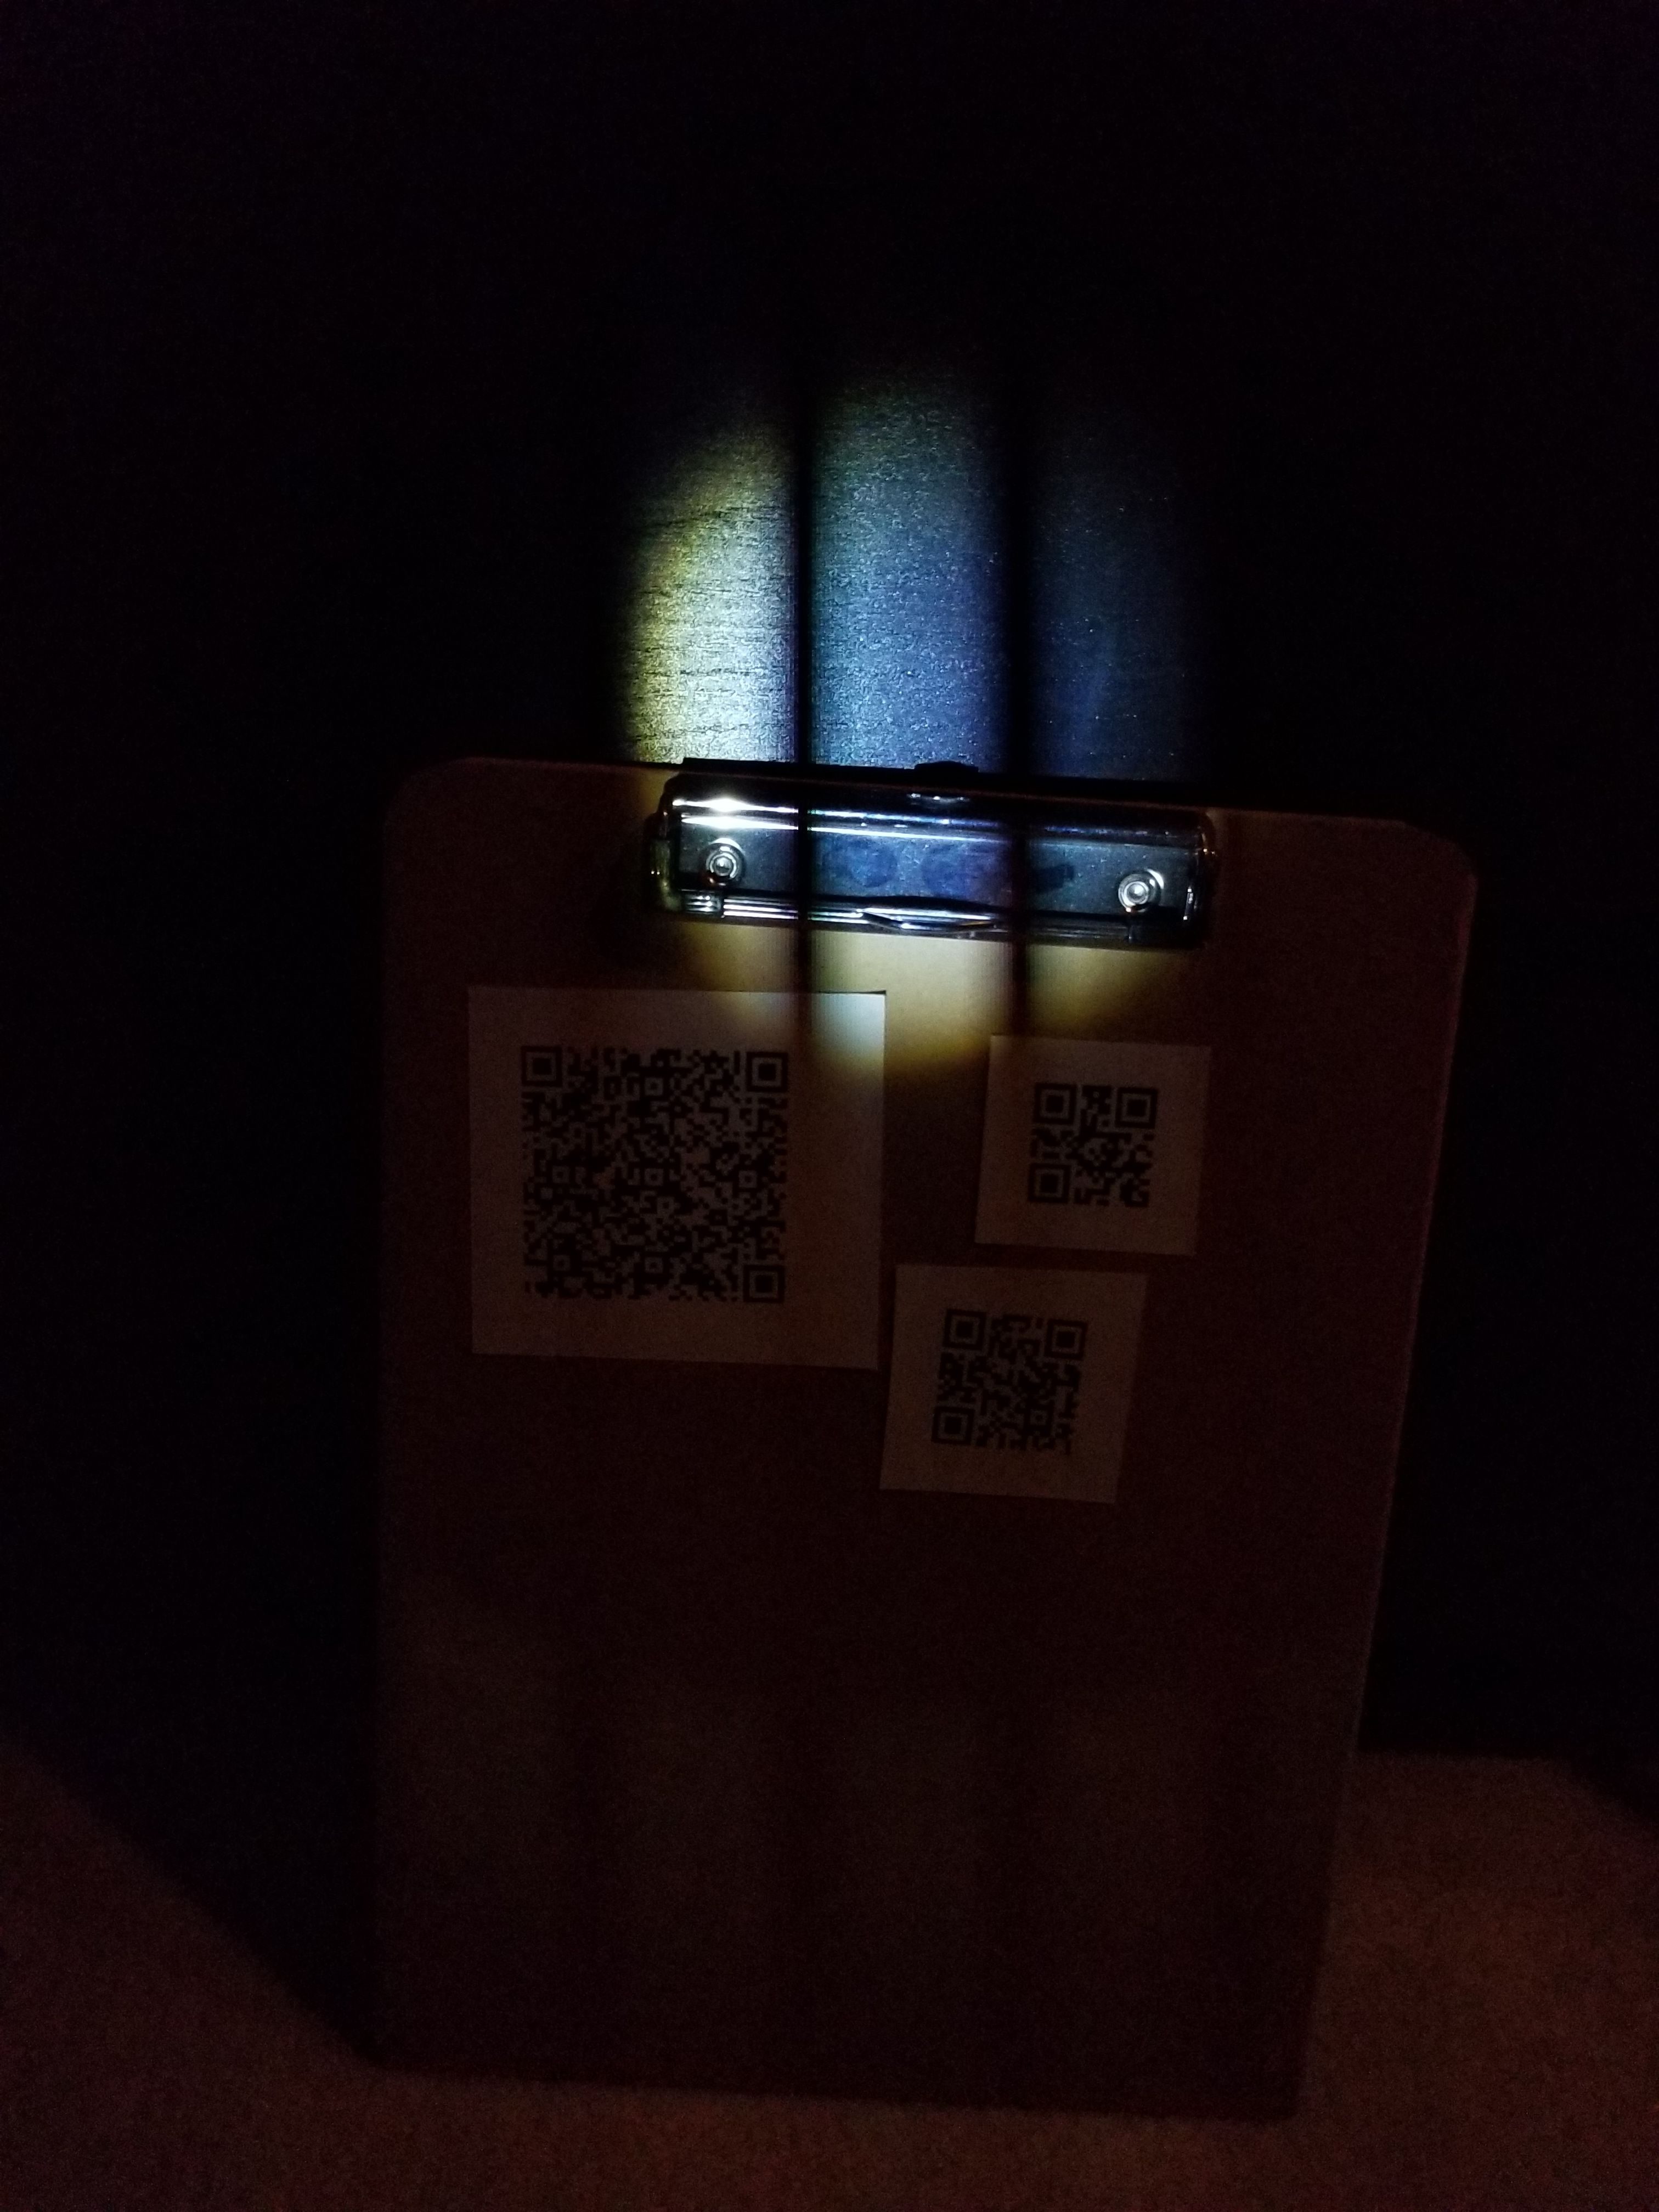QR_CODE: (498, 1005, 805, 1336), (906, 1280, 1112, 1475), (1011, 1047, 1178, 1233)
